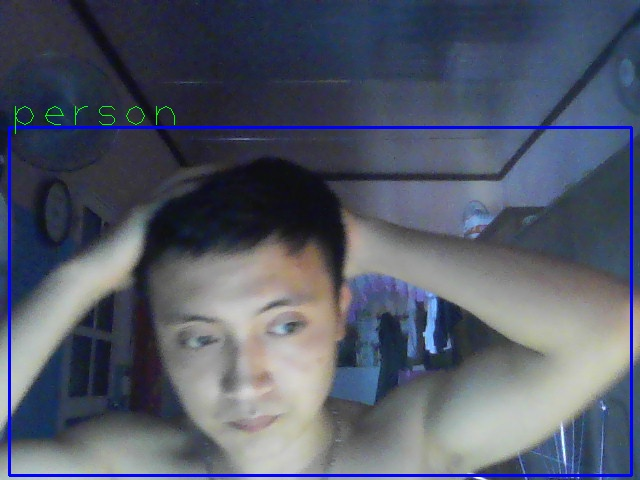person: (9, 127, 632, 476)
